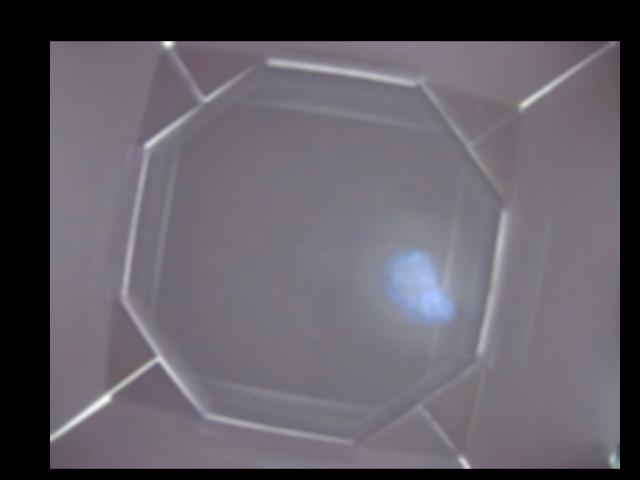Pebble: (384, 250, 458, 320)
